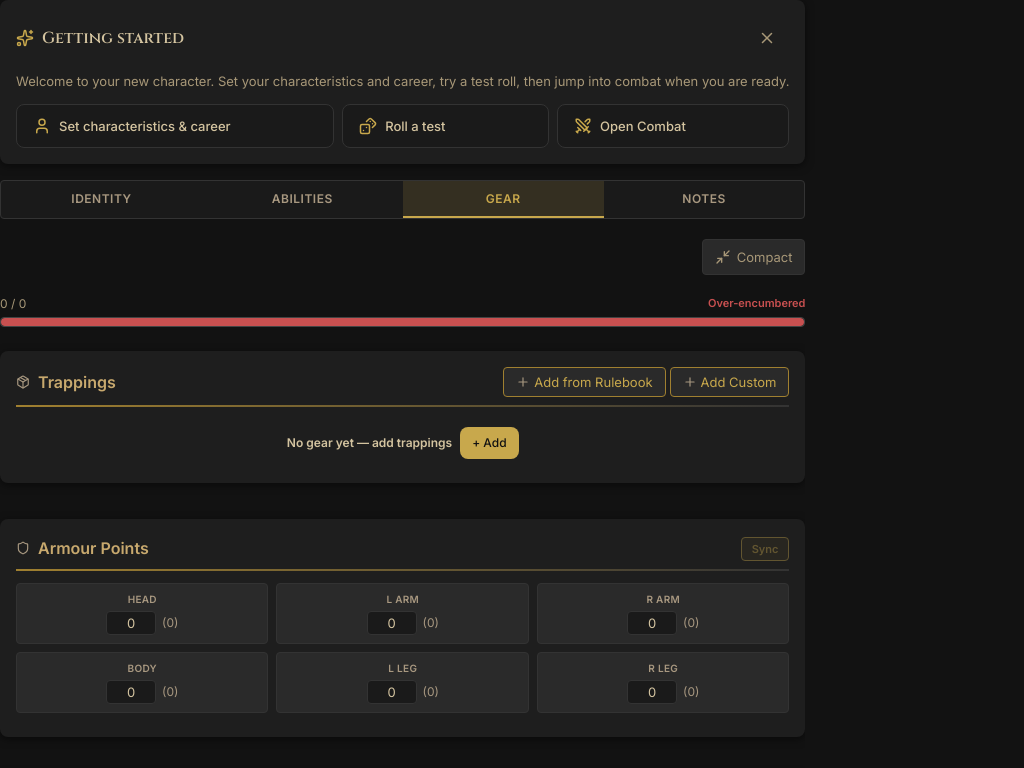
Test: CharacterPage Deposit_Control (wealth-treasury-transfer Task 9) › resulting balance exposes a breakdown tooltip reading `current +/- transferred = result` (Req 6.3)
Click the tab "Gear" at (503,199), box [403,180,604,218]
(page scrolled)
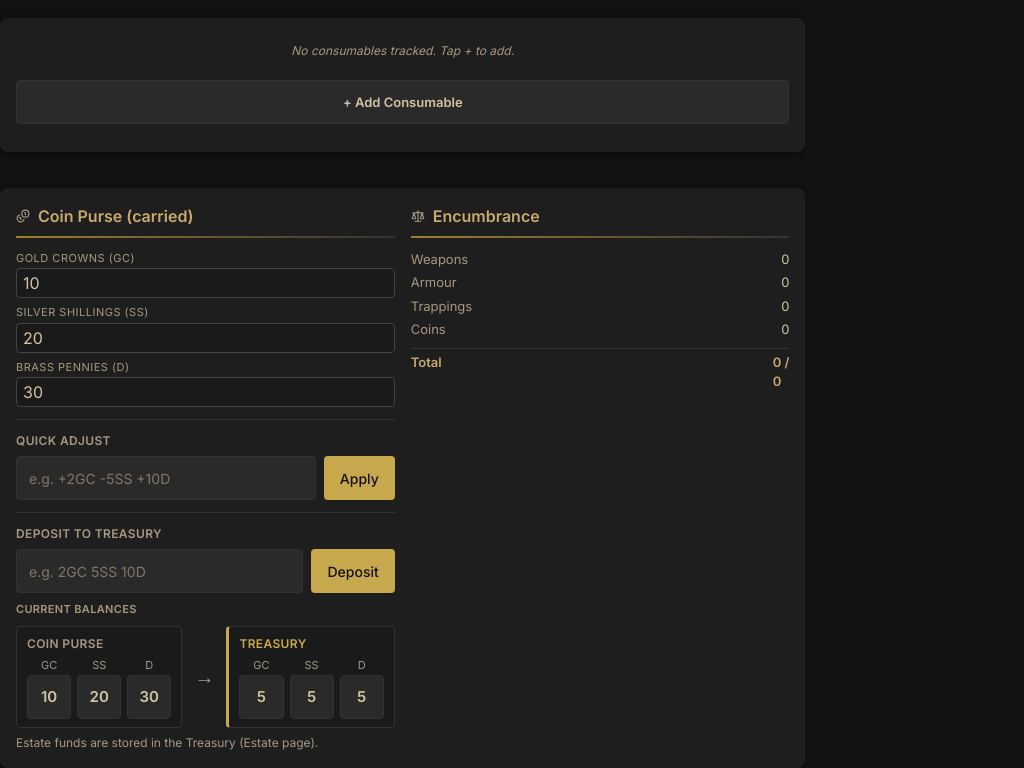
Type "2GC" into the field named "Deposit amount" at (160,571), box [16,549,304,593]
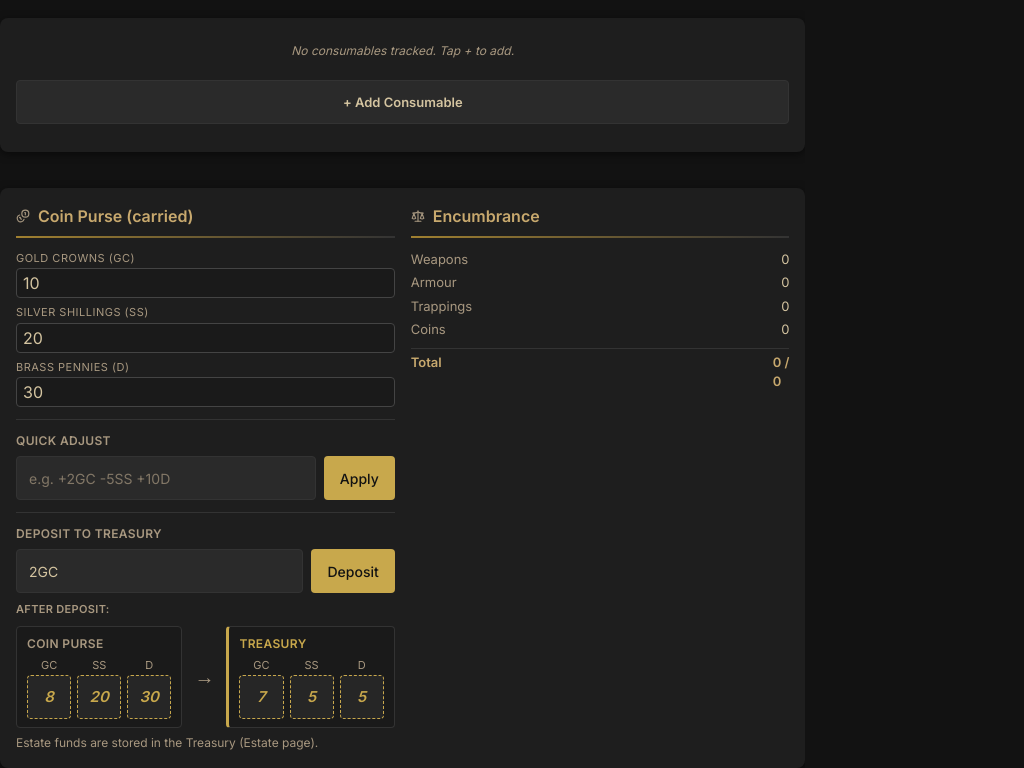
Click the button with test id "transfer-deposit-source-gc" at (49,697), box [27,675,71,719]
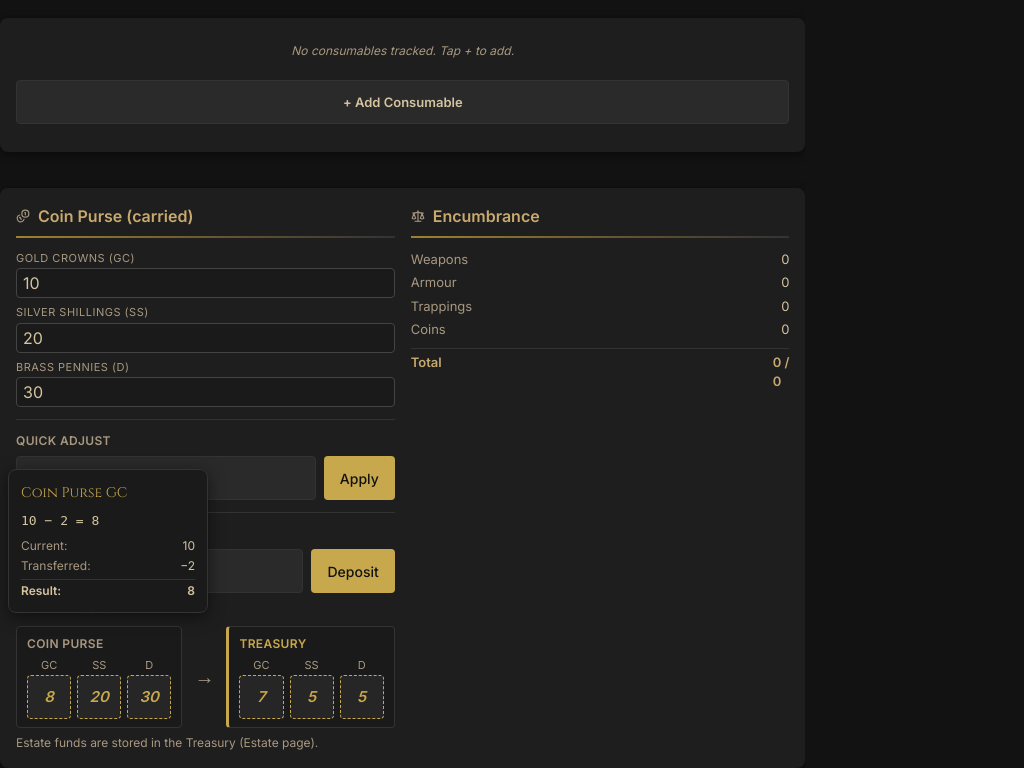
Check: the tooltip with id "transfer-deposit-source-gc" is shown, box [8,469,208,612]
Check: the tooltip with id "transfer-deposit-source-gc" shows "10", box [21,513,37,528]
Check: the tooltip with id "transfer-deposit-source-gc" shows "−", box [44,513,52,528]
Press Escape
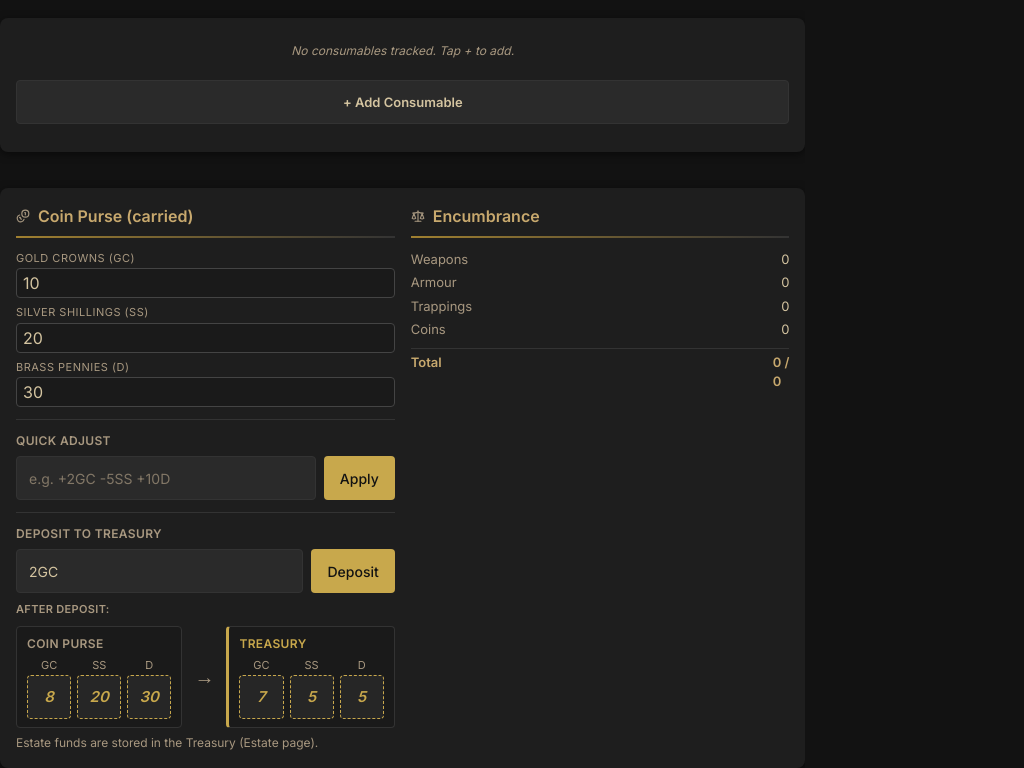
Click the button with test id "transfer-deposit-destination-gc" at (261,697), box [239,675,284,719]
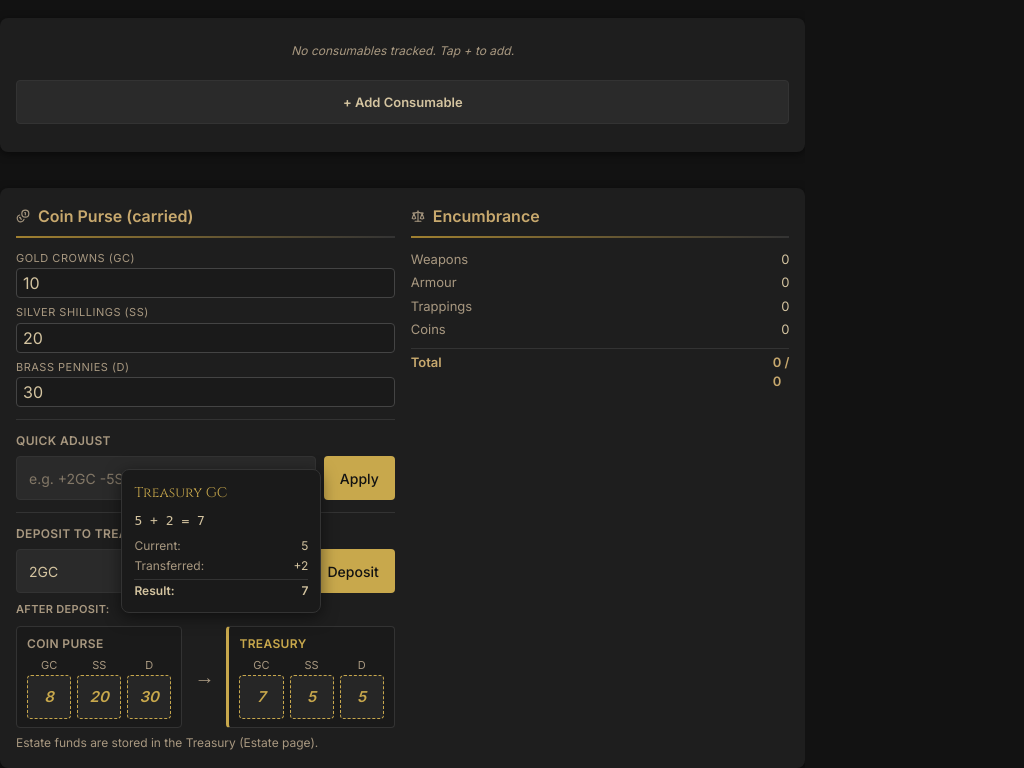
Check: the tooltip with id "transfer-deposit-destination-gc" is shown, box [121,469,321,612]
Check: the tooltip with id "transfer-deposit-destination-gc" shows "5", box [134,513,142,528]
Check: the tooltip with id "transfer-deposit-destination-gc" shows "+", box [150,513,158,528]
